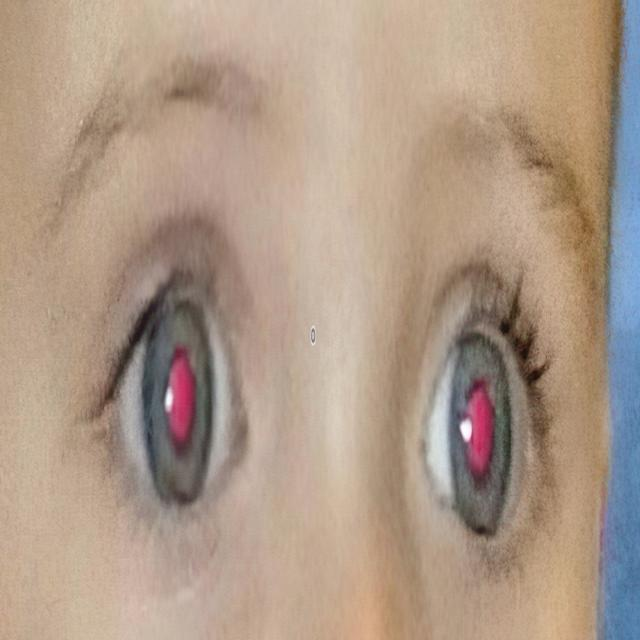reflexo-normal: (100, 258, 242, 541), (439, 294, 534, 586)
